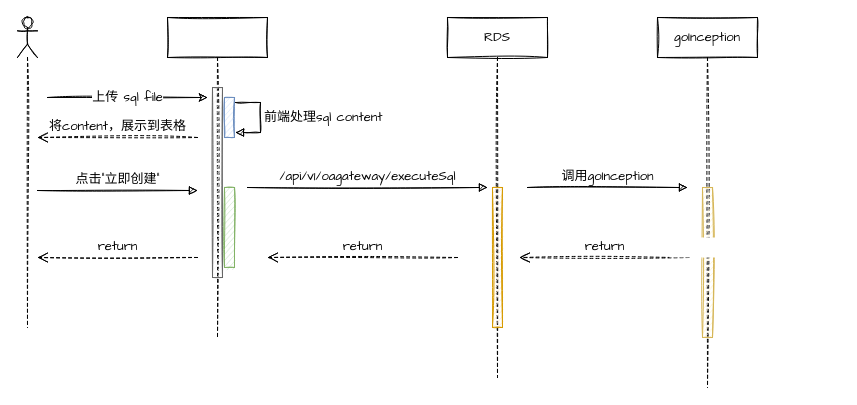
Some shapes in this 857 by 405 pixel diagram are drawn without their labels. The shapes that lost their labels are listed below. From the top down, each one's box as (x1, y1, x2, y2) in pixels, then its label:
(166, 16, 268, 338): 工单管理
(669, 237, 839, 257): 执行sql check， --check=1
